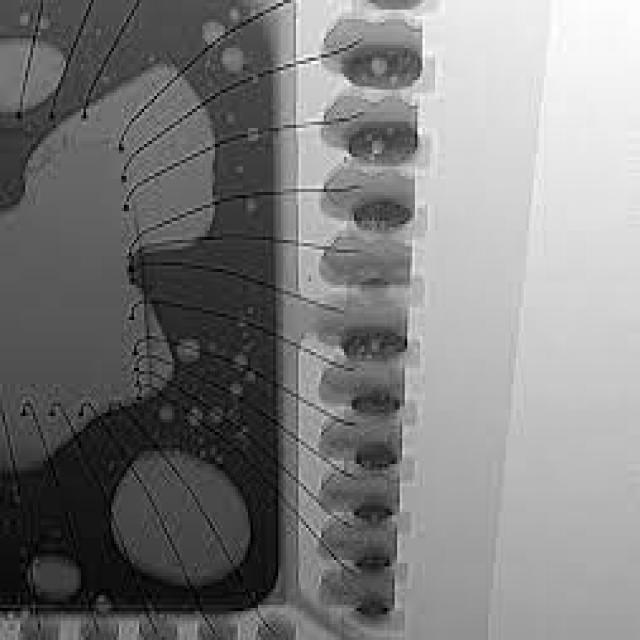component: (1, 3, 278, 617)
void: (0, 67, 218, 478), (111, 454, 250, 587), (23, 43, 63, 107), (33, 557, 81, 605), (0, 38, 29, 114), (202, 19, 228, 43), (177, 339, 200, 365), (223, 48, 243, 74), (187, 406, 205, 429), (94, 595, 114, 614), (159, 403, 175, 426), (210, 406, 225, 426), (245, 198, 261, 214), (248, 128, 261, 144), (225, 112, 238, 128), (230, 6, 240, 26), (235, 355, 250, 368), (230, 384, 243, 397), (245, 371, 258, 384), (40, 16, 51, 29), (207, 342, 218, 354), (20, 13, 30, 26), (235, 166, 245, 176), (236, 319, 246, 329), (197, 448, 206, 458), (241, 423, 249, 434), (248, 304, 255, 316), (252, 72, 259, 83), (242, 342, 250, 351), (96, 29, 101, 37), (218, 456, 222, 464)
